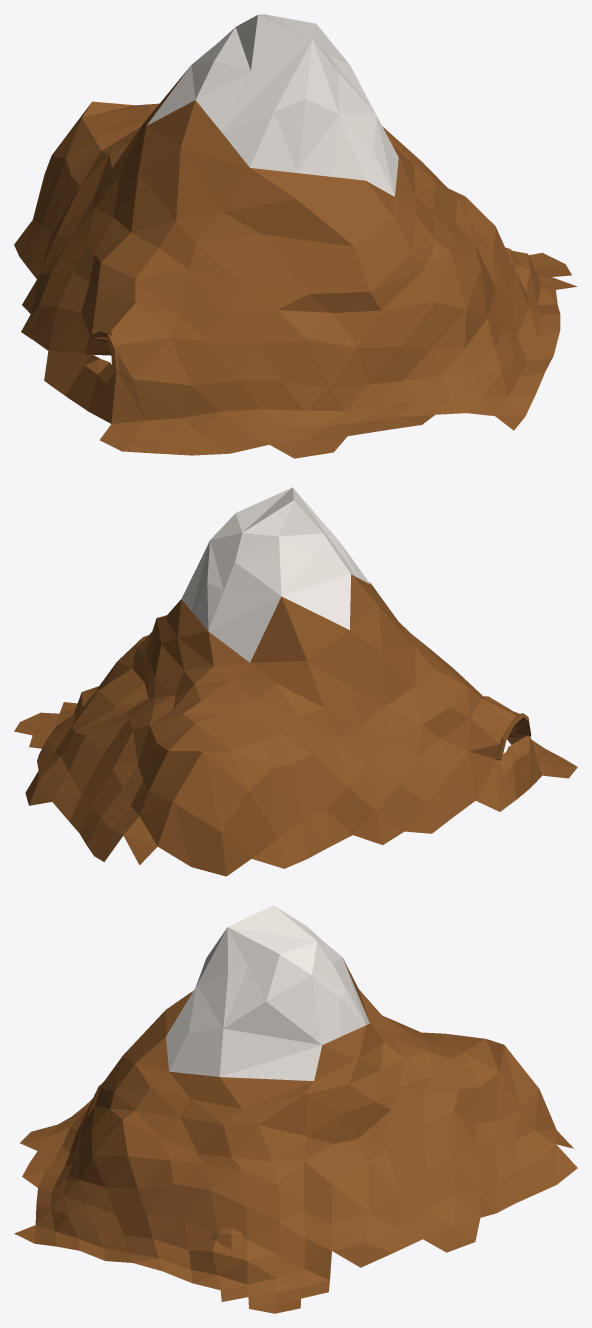
File: cave_over.fbx
3 renders of one model, top to bottom at view 1: azimuth 30°, elevation 25°; view 2: azimuth 150°, elevation 25°; view 3: azimuth 270°, elevation 25°, orthographic. The views are drawn at different scales.
Parts seen in each view (by area): view 1: Plane.034; view 2: Plane.034; view 3: Plane.034.
Boxes of the visible parts, <box> form: Plane.034: <box>14,14,576,458</box>; Plane.034: <box>14,487,577,876</box>; Plane.034: <box>14,905,577,1313</box>.
Bounding box in the file's own units: 3081 × 1798 × 3228.
